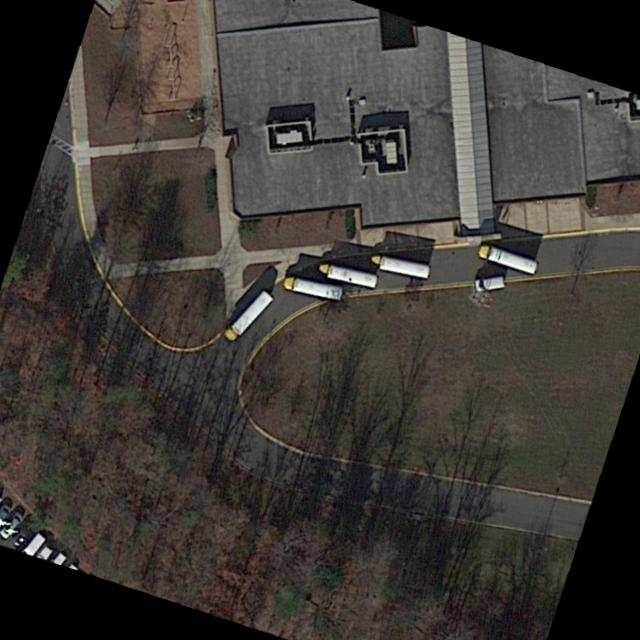large-vehicle: (224, 291, 273, 342), (477, 244, 538, 276), (318, 264, 376, 289), (370, 256, 431, 279), (283, 277, 343, 300)
small-vehicle: (0, 509, 25, 540), (11, 519, 37, 548), (472, 274, 506, 294), (0, 502, 13, 526)
